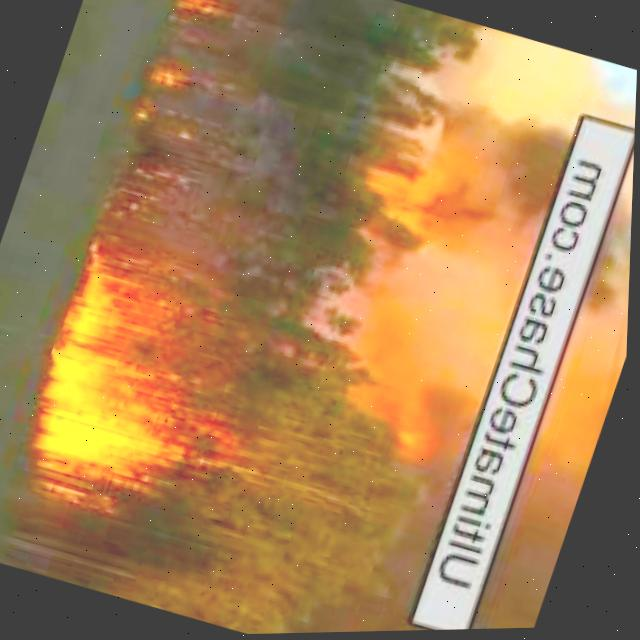Fire: (17, 243, 221, 510), (130, 62, 211, 149), (377, 164, 454, 249), (386, 405, 462, 475), (177, 0, 239, 16)
Smoke: (240, 0, 606, 523), (454, 111, 636, 632)
